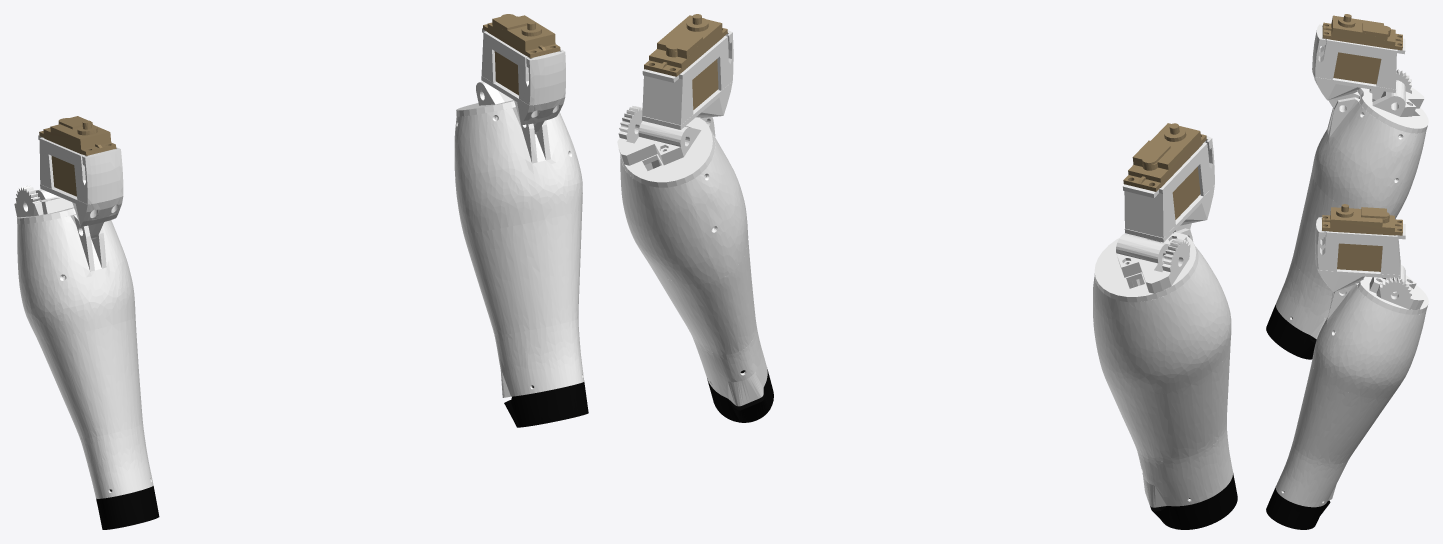
The model's file is i01.bicep.dae.
3 renders of one model, left to right at view 1: azimuth 30°, elevation 25°; view 2: azimuth 150°, elevation 25°; view 3: azimuth 270°, elevation 25°, orthographic. The views are drawn at different scales.
Visible parts, largest first — view 1: i01.left.bicep.full, i01.right.bicep.full; view 2: i01.right.bicep.full, i01.left.bicep.full; view 3: i01.left.bicep.full, i01.right.bicep.full.
Part boxes in pixels (x1,y1,x2,y2): i01.left.bicep.full: (454,14,588,427); i01.right.bicep.full: (14,116,159,529); i01.right.bicep.full: (1093,123,1237,529); i01.left.bicep.full: (617,14,773,422); i01.left.bicep.full: (1266,204,1428,529); i01.right.bicep.full: (1266,14,1428,359).
Bounding box in the file's own units: 5.13 × 1.56 × 3.53.
